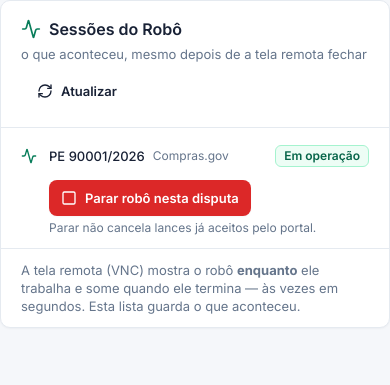
Test case: SessoesDoRobo — parar uma sessão › solicitada: diz "aguardando confirmação" e NUNCA que parou
Click the button "Parar robô nesta disputa": (150, 198) [49,180,251,216]
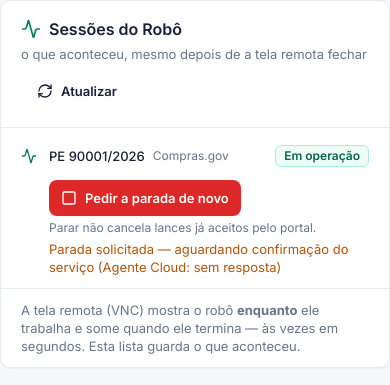
expect the button "Pedir a parada de novo" is enabled: met, box [49,180,241,216]
expect the text "Agente Cloud: sem resposta" is shown: met, box [49,241,348,275]
